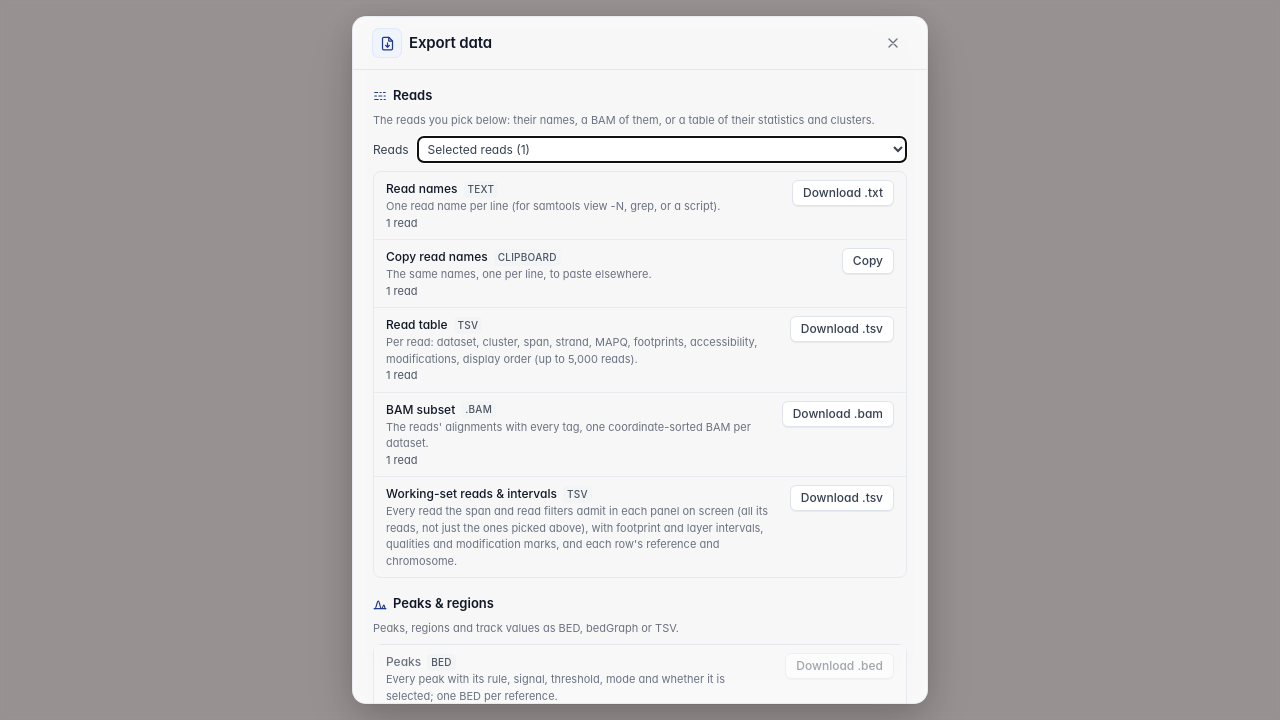
Scenario: Export data dialog › the scope picker changes which reads the Reads exports are about
Expected: the text with test id "export-entry-read-names-detail" reads "1 read", [386,216,417,230]
Step 1. Select "Filtered reads (0)" in the dropdown with test id "export-read-scope" → (662, 150), box [417,136,907,163]
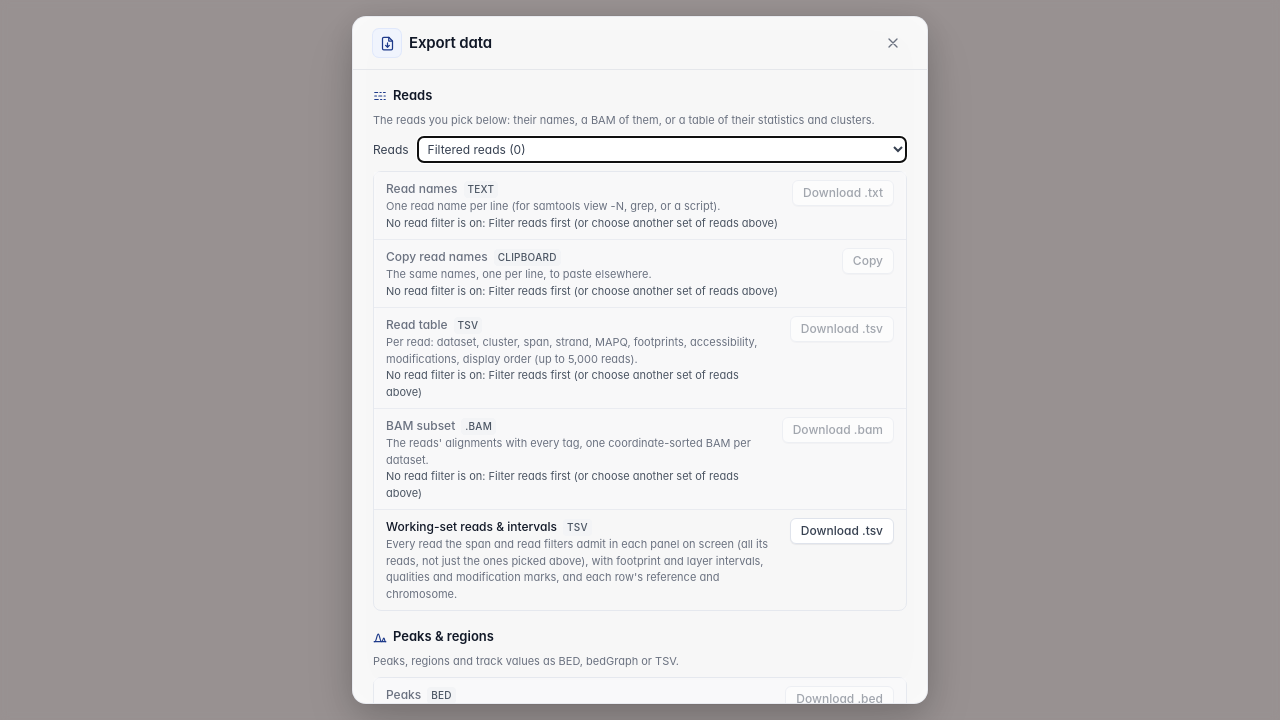
Expected: the text with test id "export-entry-read-names-reason" shows "No read filter", [386,216,778,230]
